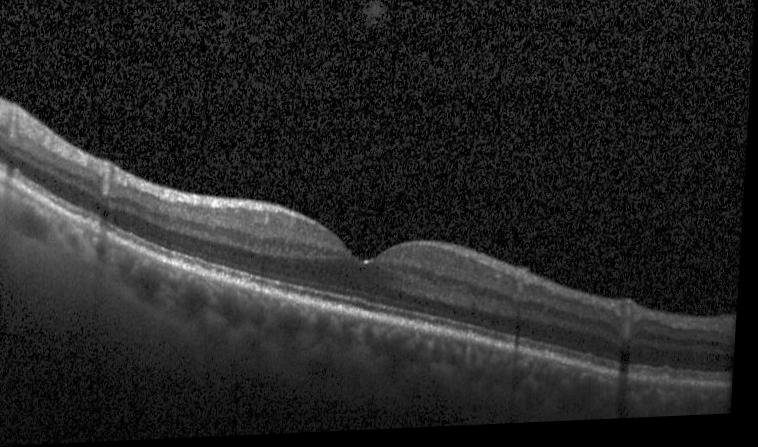retinal_drusen: (77, 215, 106, 234), (662, 379, 675, 391), (587, 367, 597, 375)
